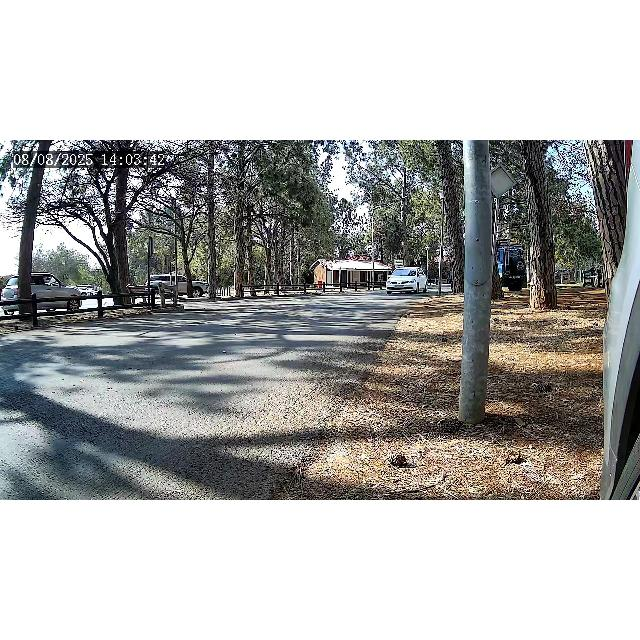car: (2, 274, 82, 316), (144, 274, 210, 300), (384, 267, 426, 295)
